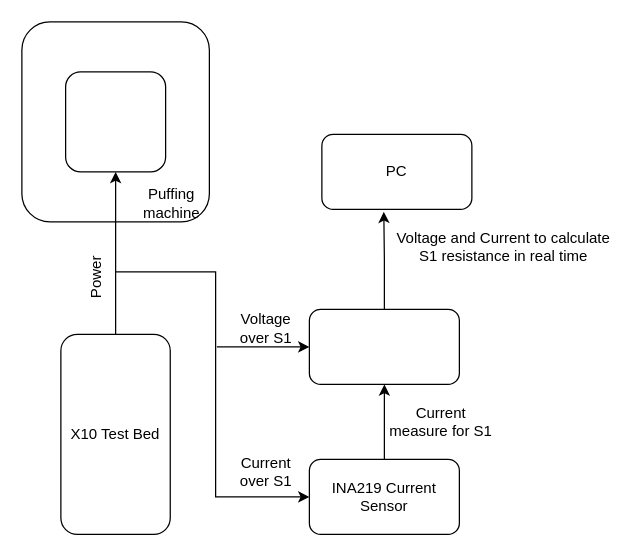
Some shapes in this 644 by 556 pixel diagram are drawn without their labels. The shapes that lost their labels are listed below. From the top down, each one's box as (x1, y1, x2, y2) in pixels, then its label:
(64, 71, 166, 172): Pod With S1
(308, 308, 459, 384): Arduino Leo
